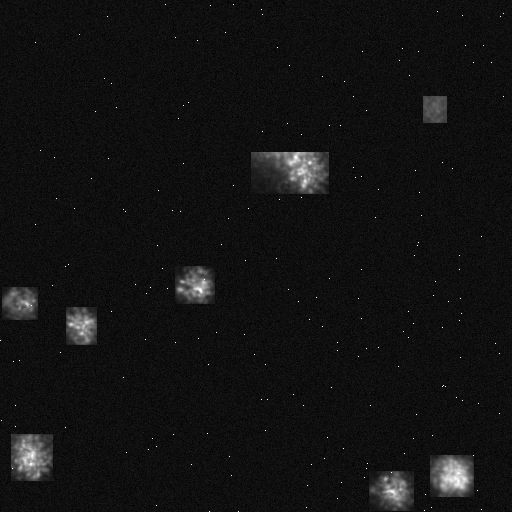lam1: (251, 152, 328, 193), (11, 434, 52, 480), (430, 455, 473, 496), (369, 471, 413, 510), (175, 266, 214, 303), (2, 287, 37, 319), (66, 307, 96, 344)
lam3: (423, 96, 446, 122)
